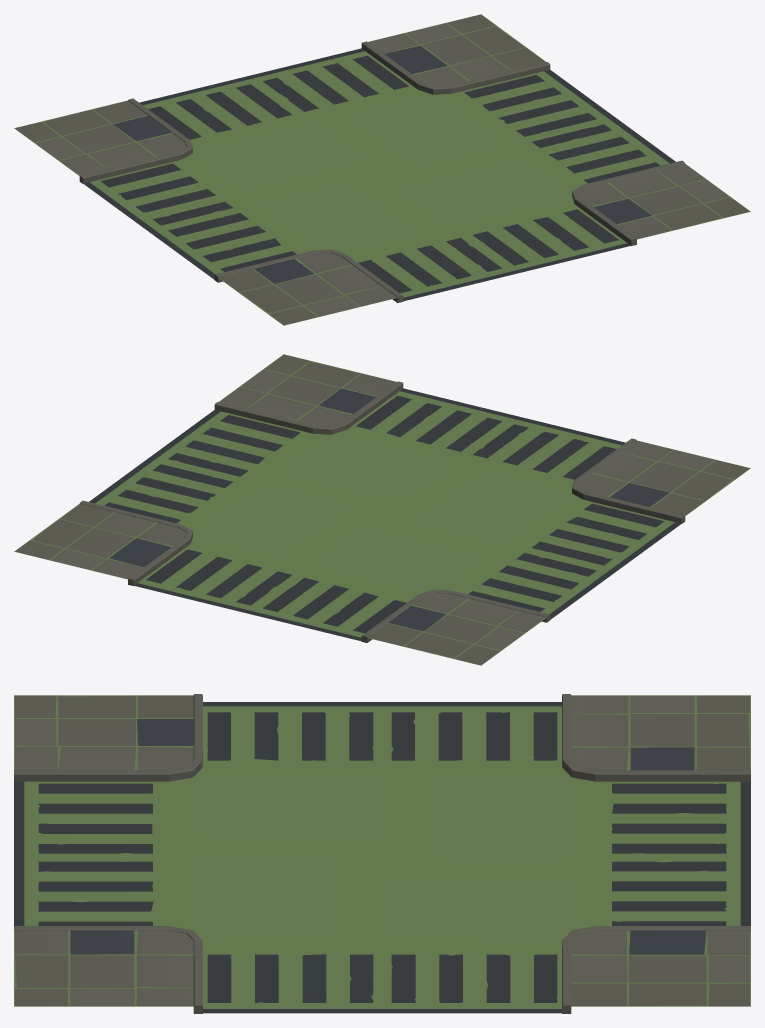
Rendered from Road_17.fbx.
The picture shows the model from 3 angles, top to bottom: view 1: azimuth 30°, elevation 25°; view 2: azimuth 150°, elevation 25°; view 3: azimuth 270°, elevation 25°; orthographic projection. The views are drawn at different scales.
Parts seen in each view (by area): view 1: Road_17; view 2: Road_17; view 3: Road_17.
Part boxes in pixels (left/top/right/bottom): Road_17: left=14, top=14, right=750, bottom=325; Road_17: left=14, top=354, right=750, bottom=665; Road_17: left=14, top=694, right=750, bottom=1013.
Size of the model in its own units: 12 by 0.15 by 12.
